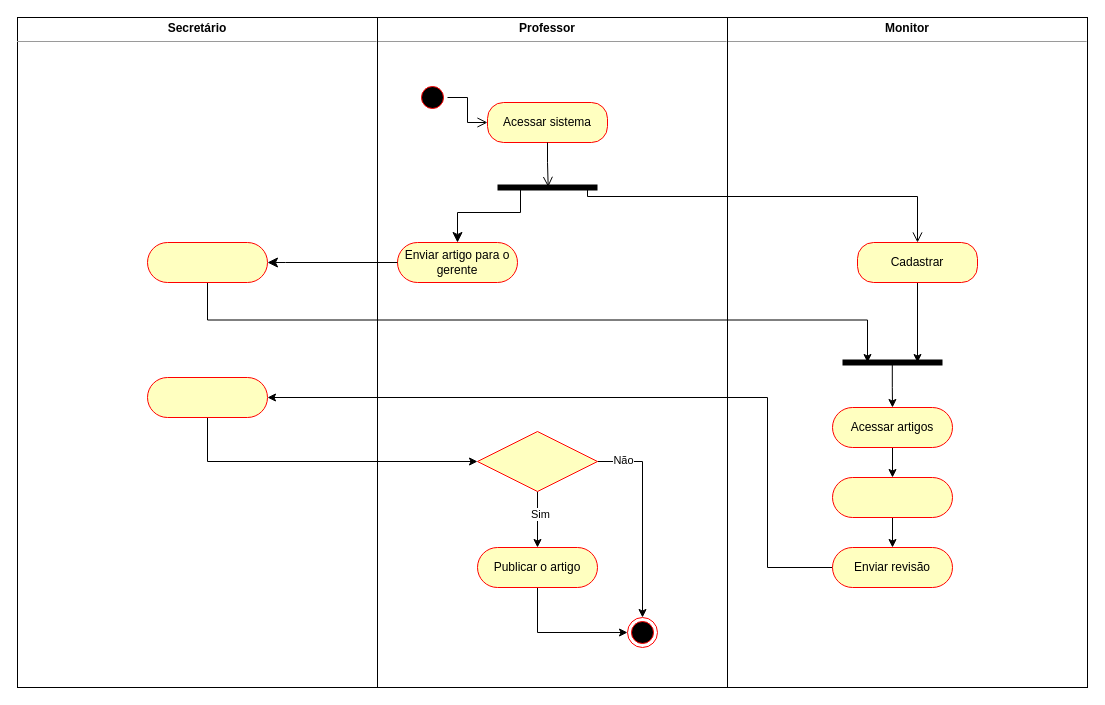
This 1105x705 diagram has some shape labels left out. The shapes that lost their labels are listed below. From the top down, each one's centre as x and y in pixels, then its label:
the point at 207,262: Distribuir artigo para revisores
the point at 207,397: Informar os autores
the point at 537,461: Artigo aceito?
the point at 892,497: Revisar Artigos
